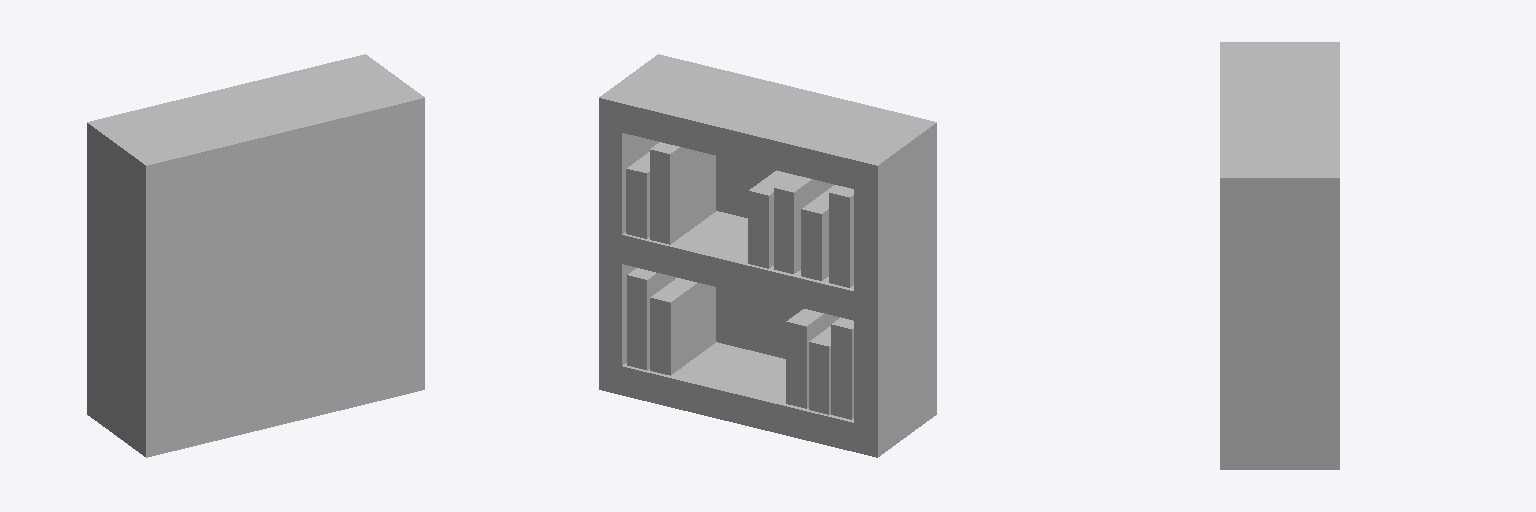
Rendered from FM_bookshelf.obj.
The picture shows the model from 3 angles: view 1: azimuth 30°, elevation 25°; view 2: azimuth 150°, elevation 25°; view 3: azimuth 270°, elevation 25°; orthographic projection.
Visible parts, largest first — view 1: Cube.001; view 2: Cube.001; view 3: Cube.001.
Part boxes in pixels (left/top/right/bottom): Cube.001: left=87, top=54, right=424, bottom=457; Cube.001: left=599, top=54, right=936, bottom=457; Cube.001: left=1220, top=42, right=1339, bottom=469.
Bounding box in the file's own units: 1 × 1 × 0.3703.